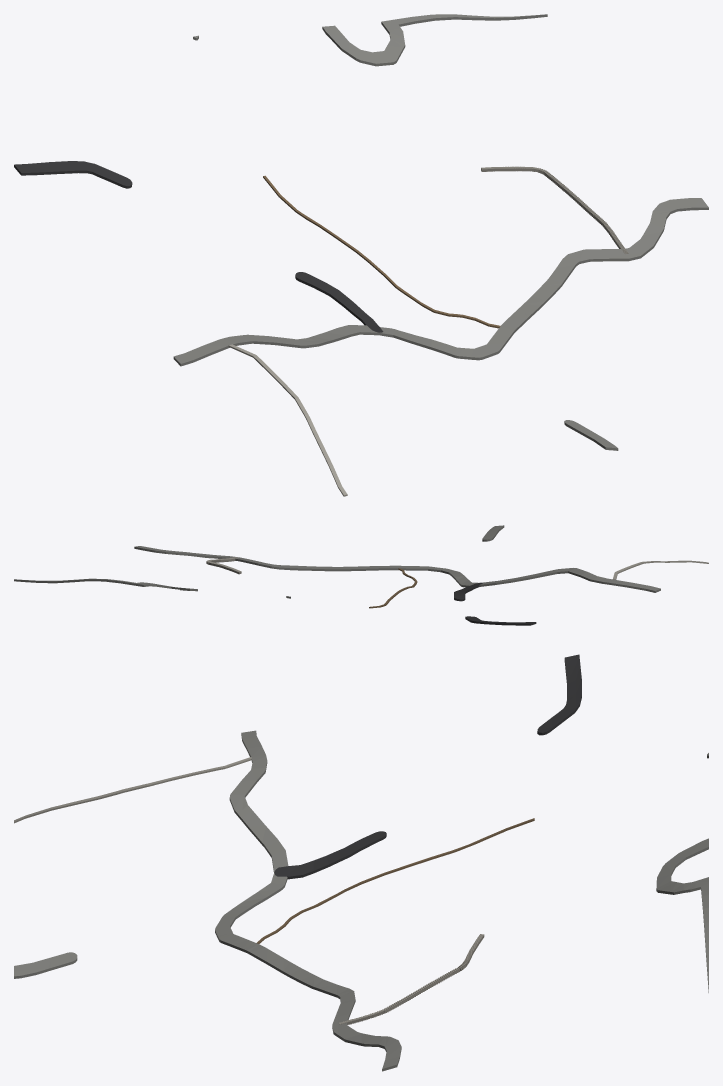
Rendered from 17-109453-59473.4b0e3cfe.glb.
3 views of the same model, one above another, from view 1: azimuth 30°, elevation 25°; view 2: azimuth 150°, elevation 25°; view 3: azimuth 270°, elevation 25° (orthographic). The views are drawn at different scales.
Bounding box in the file's own units: 293 × 85.99 × 292.
